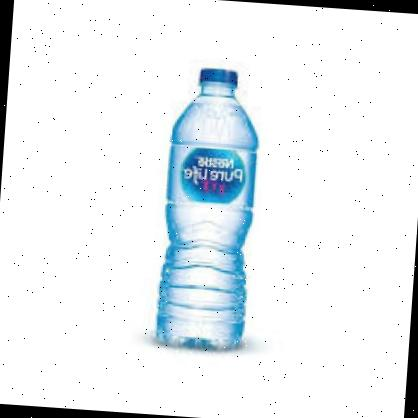bottle: (147, 56, 269, 358)
cap: (194, 61, 246, 94)
label: (160, 135, 266, 216)
